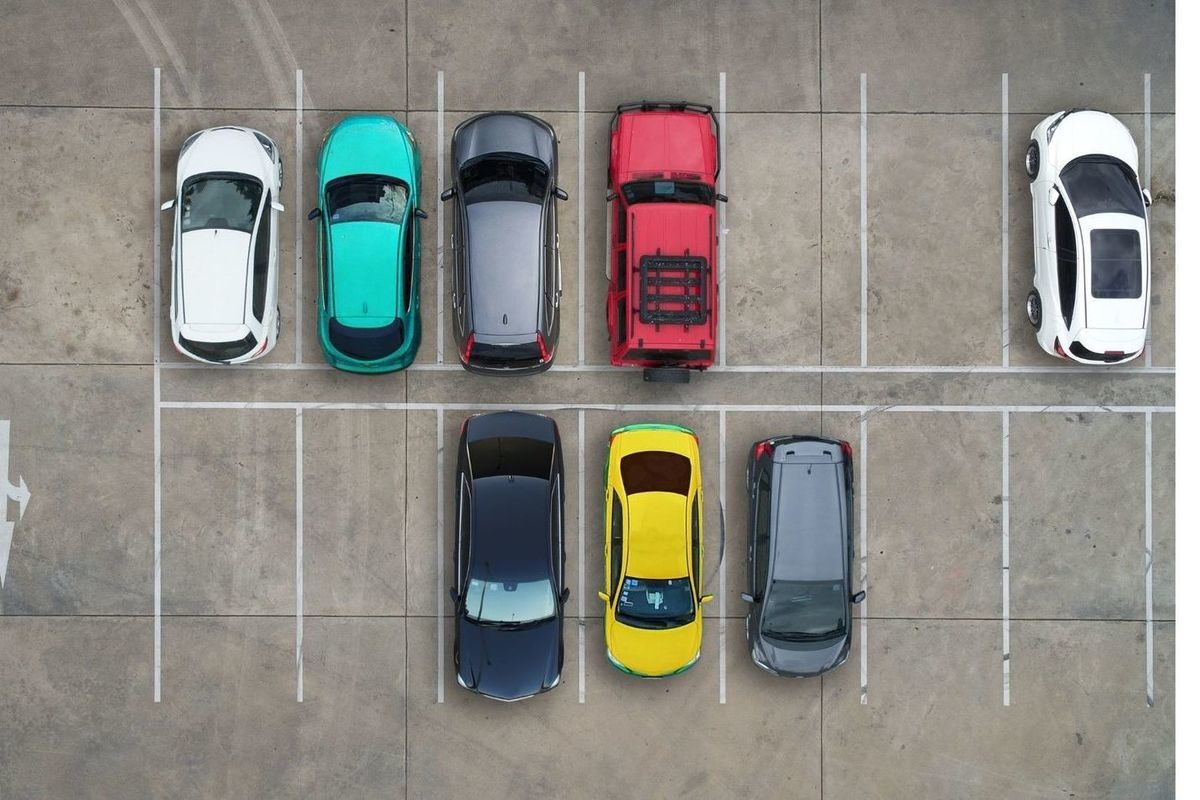car: (447, 411, 572, 709), (164, 410, 294, 693), (591, 412, 714, 691), (1016, 105, 1148, 361), (310, 105, 434, 375), (162, 108, 289, 367), (602, 98, 716, 384), (311, 415, 428, 693), (1018, 422, 1146, 676), (730, 107, 856, 362), (732, 418, 854, 681), (451, 103, 567, 373), (874, 108, 997, 359), (875, 417, 992, 675)
